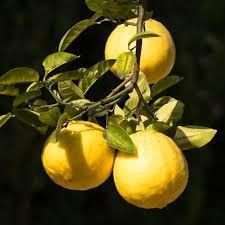lemon: (112, 130, 188, 209), (42, 120, 115, 190), (104, 17, 176, 84)
